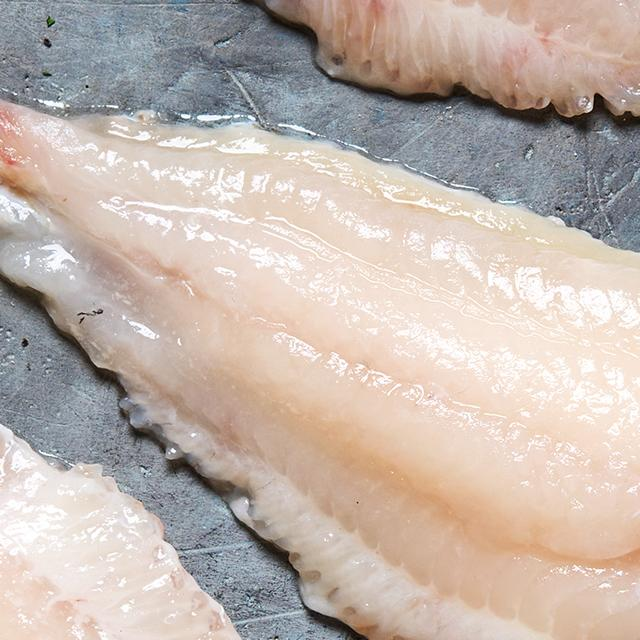fish: (0, 0, 640, 137)
